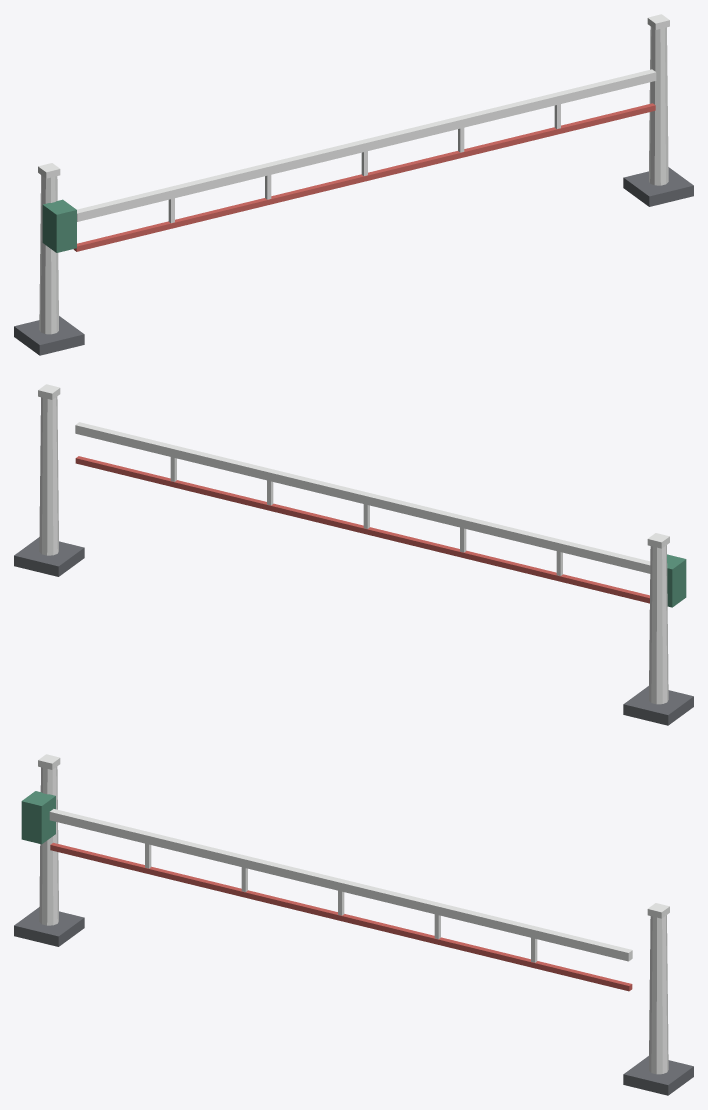
Rendered from racecourse-and-parade-ring-tape-start-barrier-2710f32c__38608.glb.
The picture shows the model from 3 angles, top to bottom: view 1: azimuth 30°, elevation 25°; view 2: azimuth 150°, elevation 25°; view 3: azimuth 330°, elevation 25°; orthographic projection.
Parts seen in each view (by area): view 1: tape-start-barrier, barrier/white, barrier/red; view 2: tape-start-barrier, barrier/white, barrier/red; view 3: tape-start-barrier, barrier/white, barrier/red.
Part boxes in pixels (x1,y1,x2,y2): tape-start-barrier: (14, 14, 693, 355); barrier/white: (77, 69, 656, 223); barrier/red: (73, 103, 655, 251); tape-start-barrier: (14, 384, 693, 725); barrier/white: (75, 422, 650, 575); barrier/red: (75, 456, 649, 603); tape-start-barrier: (14, 754, 693, 1095); barrier/white: (49, 809, 632, 962); barrier/red: (50, 842, 632, 991).
Bounding box in the file's own units: 6.44 × 1.63 × 0.5201.
